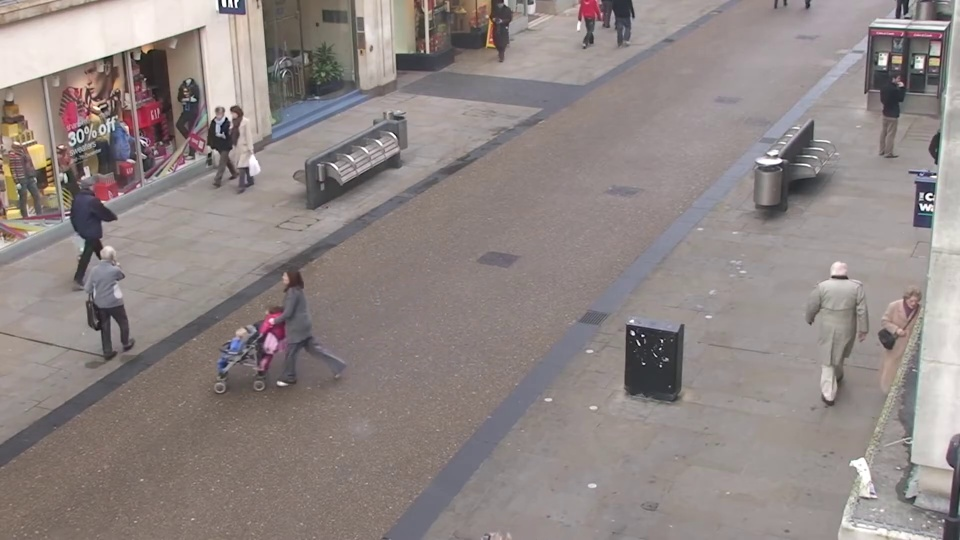pedestrian: (200, 317, 258, 463), (873, 286, 932, 429), (92, 238, 147, 363), (812, 248, 863, 380), (253, 260, 303, 392), (80, 165, 128, 271), (870, 68, 909, 155), (215, 107, 251, 198), (198, 104, 234, 194)
